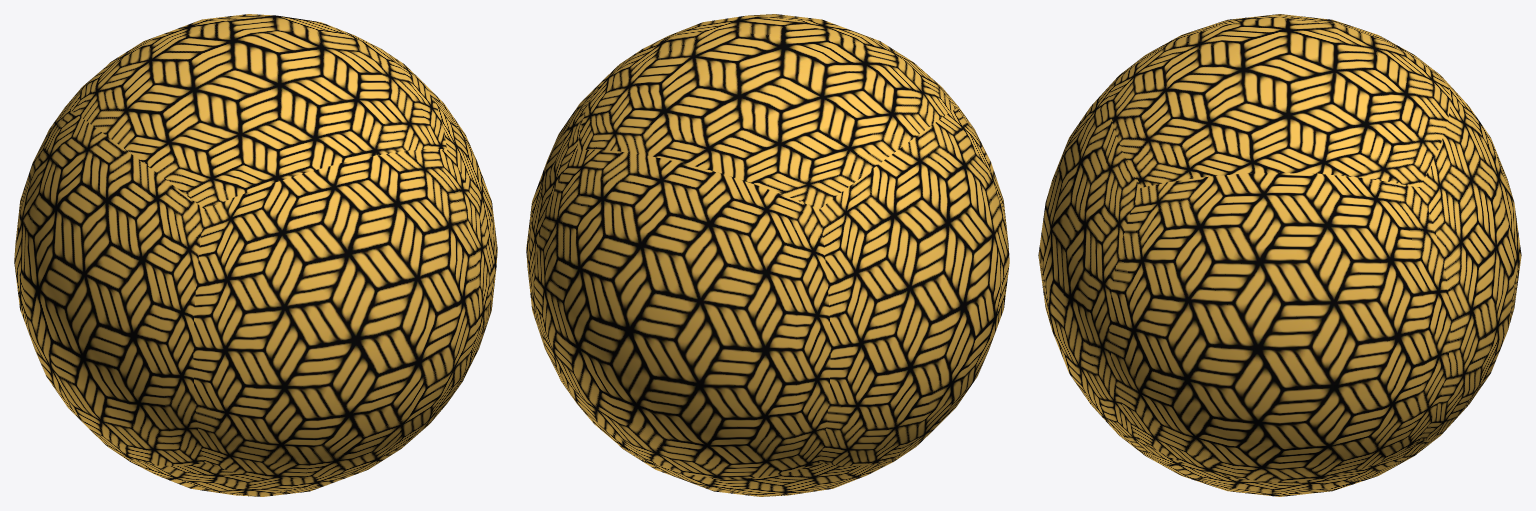
The model's file is marble.glb.
3 renders of one model, left to right at view 1: azimuth 30°, elevation 25°; view 2: azimuth 150°, elevation 25°; view 3: azimuth 270°, elevation 25°, orthographic.
Parts seen in each view (by area): view 1: Cube; view 2: Cube; view 3: Cube.
Boxes of the visible parts, x1,y1,x2,y2 form: Cube: (14,14,497,496); Cube: (526,14,1009,496); Cube: (1038,14,1521,496).
Size of the model in its own units: 0.6362 by 0.6362 by 0.6362.
1 material, 1 textured.
